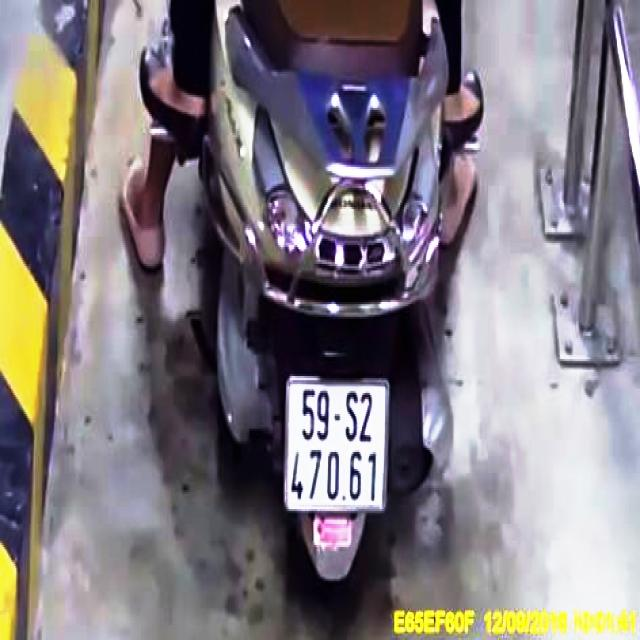license_plate: (285, 380, 386, 511)
